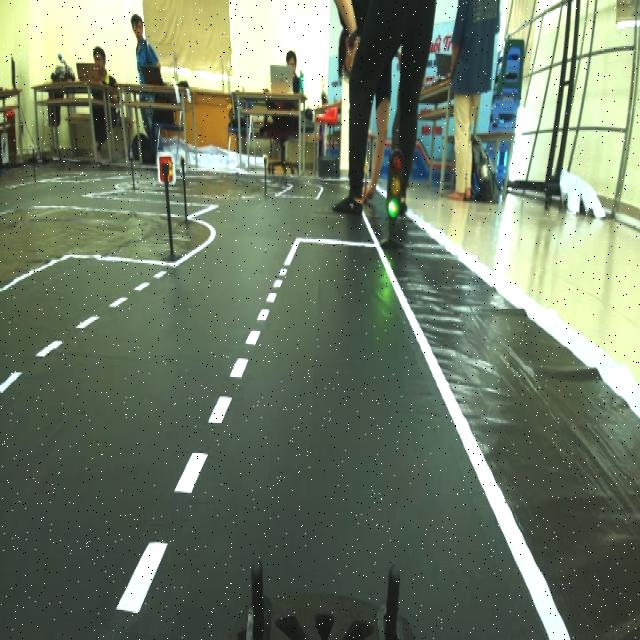trafficlight: (380, 140, 410, 267)
